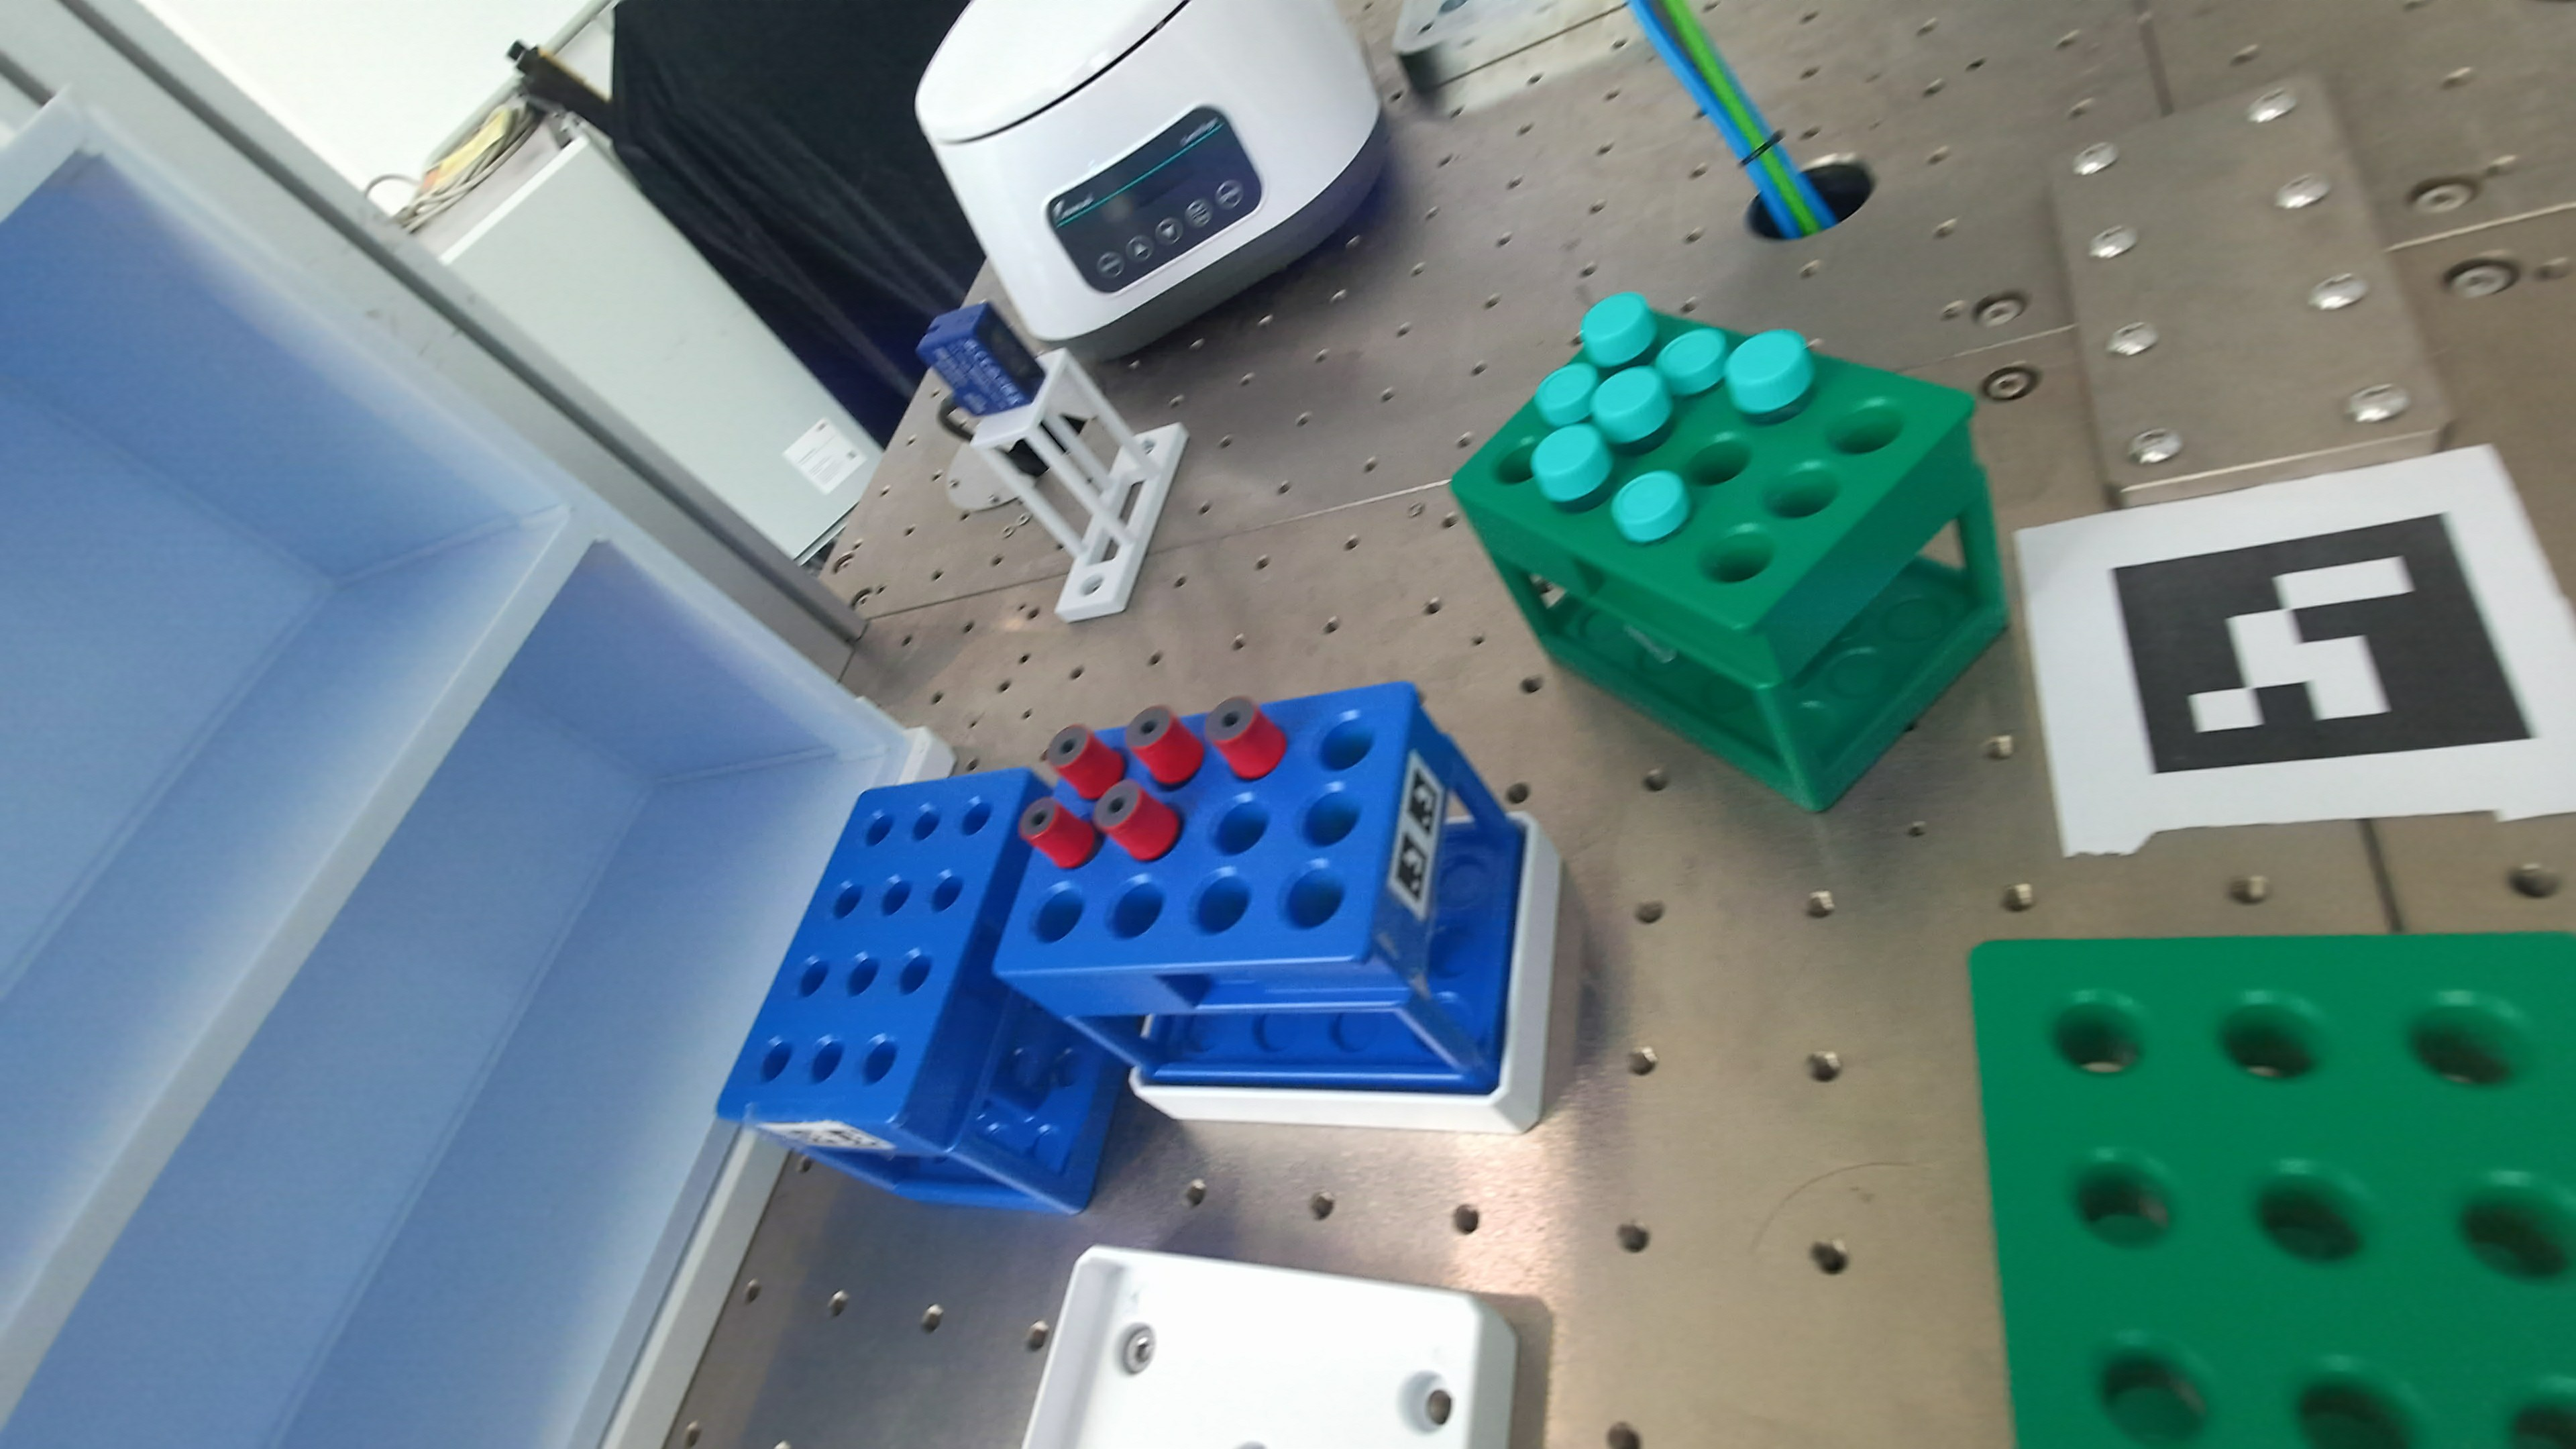10ML_centrifuge_tube: (1725, 331, 1813, 416), (1532, 423, 1614, 506), (1580, 292, 1656, 368)
10ML_sorting_tube_rack: (994, 683, 1530, 1092), (718, 770, 1120, 1210)
5ML_centrifuge_tube: (1612, 471, 1691, 545), (1654, 327, 1730, 396), (1534, 363, 1599, 428)
5ML_sorting_tube_rack: (1969, 934, 2576, 1447), (1453, 294, 2006, 810)
blood_tube: (1046, 706, 1265, 800), (1093, 780, 1180, 860), (1205, 697, 1286, 780), (1019, 796, 1099, 869)
centrifuge_close: (916, 0, 1385, 361)
sorting_tube_rack_base: (1129, 814, 1560, 1132), (1024, 1246, 1516, 1449)
tube_rack_storage_cabinet: (0, 97, 922, 1445)
